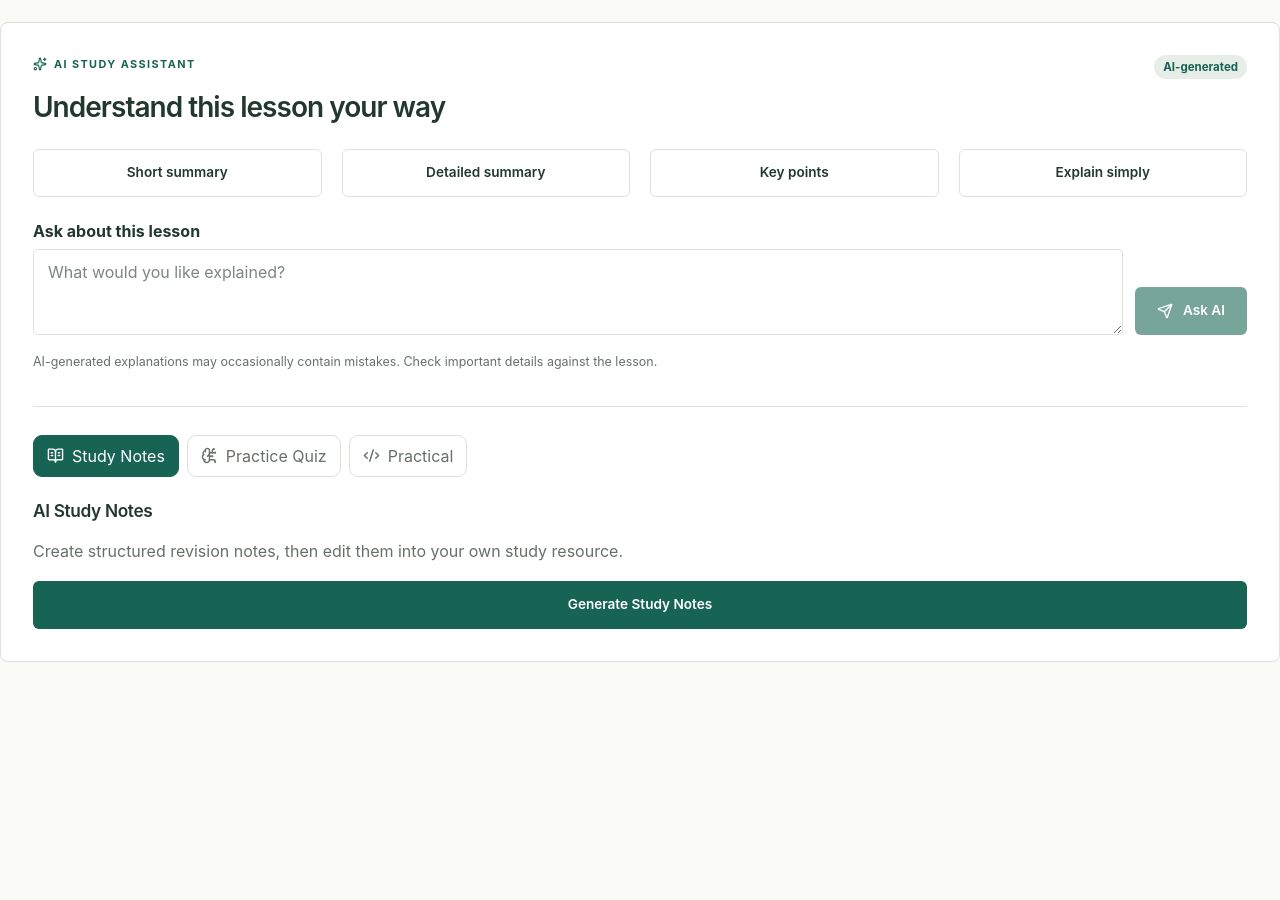
requests AI only after learner action and renders honest generated content
Click the button "Short summary": click(177, 173) [33,149,322,197]
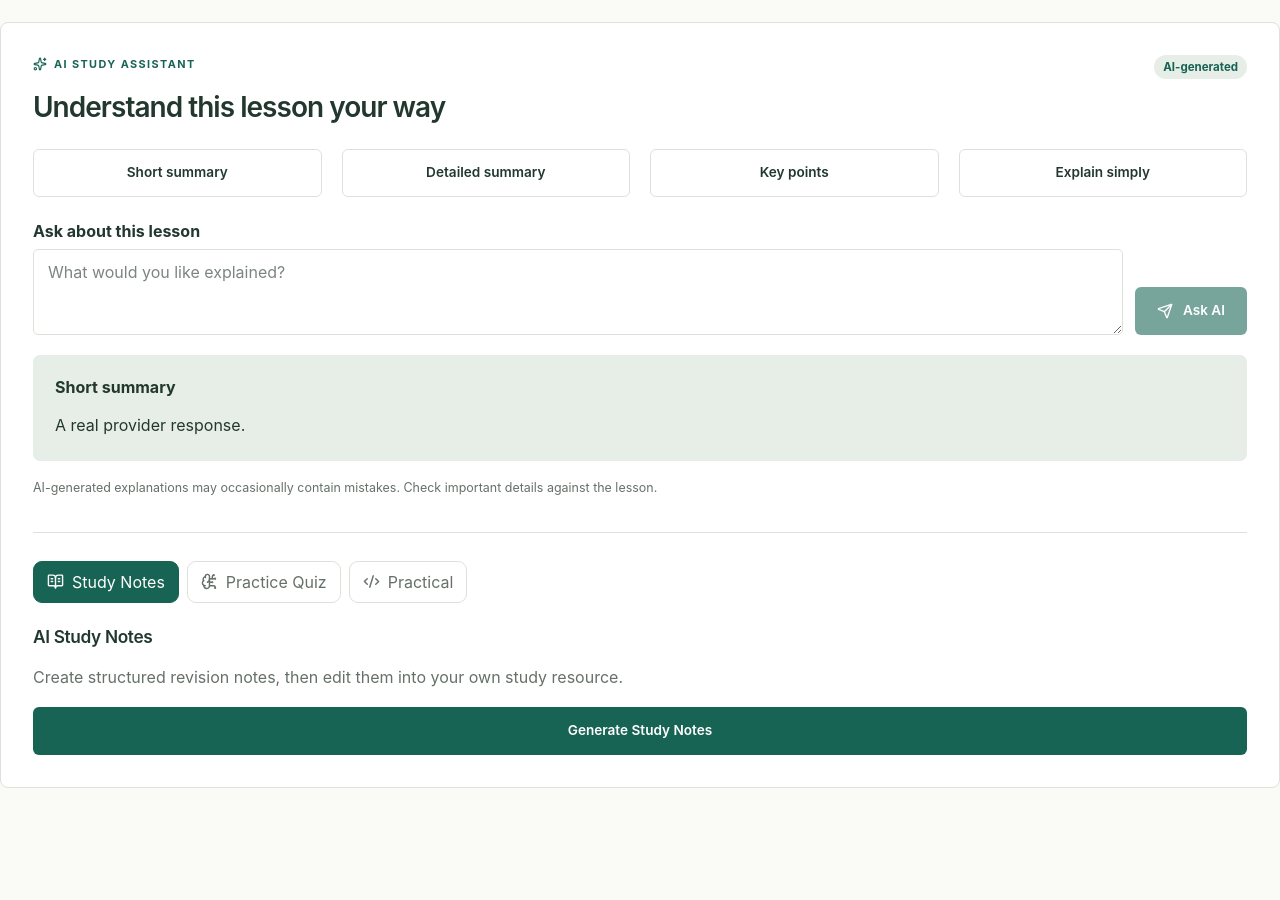
Expected: the text "may occasionally contain mistakes" is shown, [33,480,657,495]
Expected: the text "A real provider response." is shown, [55,415,245,435]
